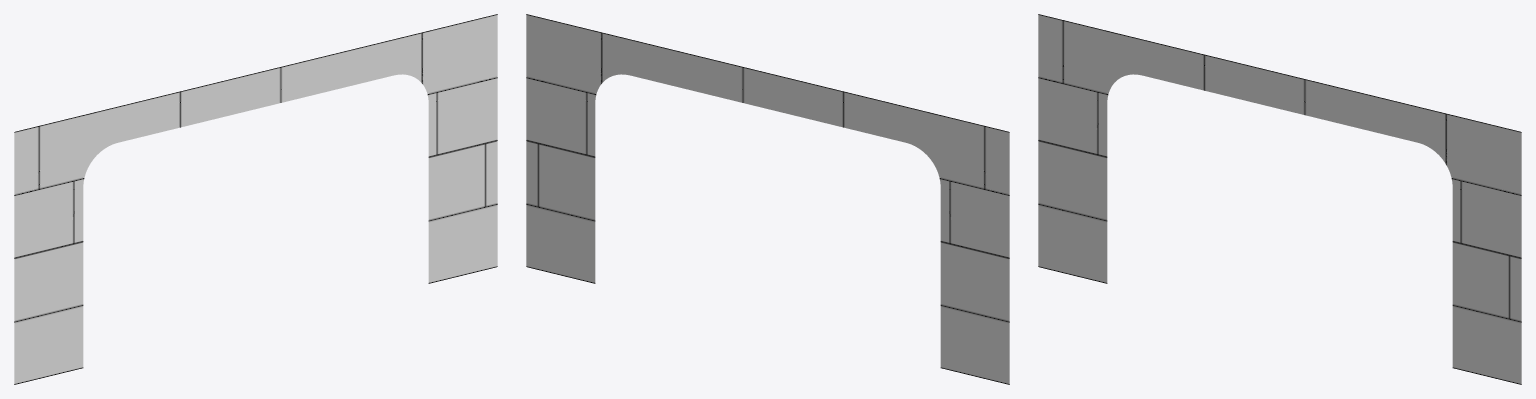
File: Wall700cmFrameRound500cm.FBX
3 renders of one model, left to right at view 1: azimuth 30°, elevation 25°; view 2: azimuth 150°, elevation 25°; view 3: azimuth 330°, elevation 25°, orthographic.
Parts seen in each view (by area): view 1: Wall700cmFrameRound500cm; view 2: Wall700cmFrameRound500cm; view 3: Wall700cmFrameRound500cm.
Boxes of the visible parts, bbox=[...] form: Wall700cmFrameRound500cm: bbox=[14, 14, 497, 384]; Wall700cmFrameRound500cm: bbox=[526, 14, 1009, 384]; Wall700cmFrameRound500cm: bbox=[1038, 14, 1521, 384].
Bounding box in the file's own units: 700 × 350 × 4.62e-05.
